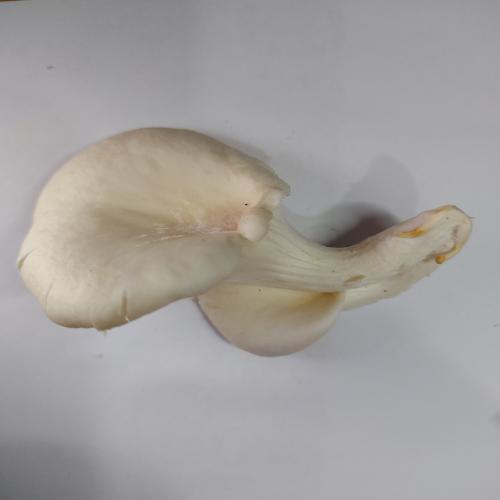Oyster Mushroom: (15, 126, 474, 358)
